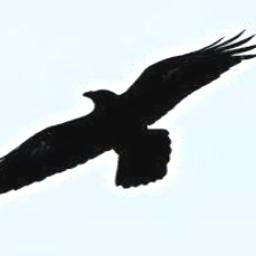Crow: (0, 29, 256, 211)
